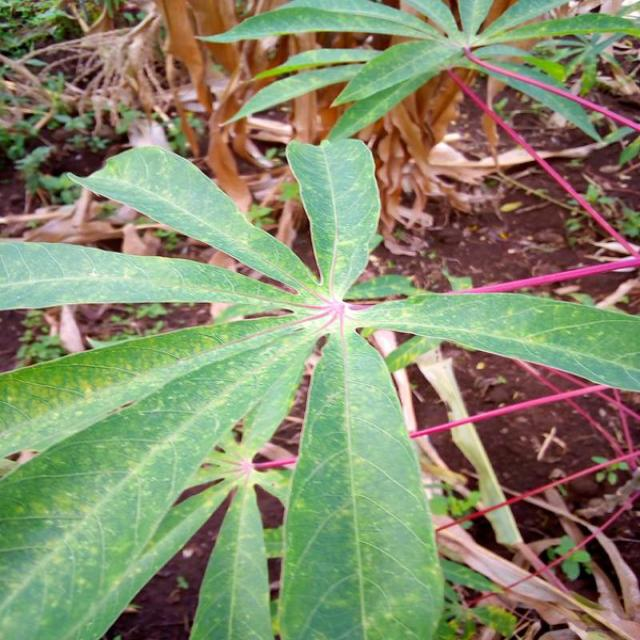cassava leaf: (0, 134, 639, 638), (276, 319, 445, 639)
